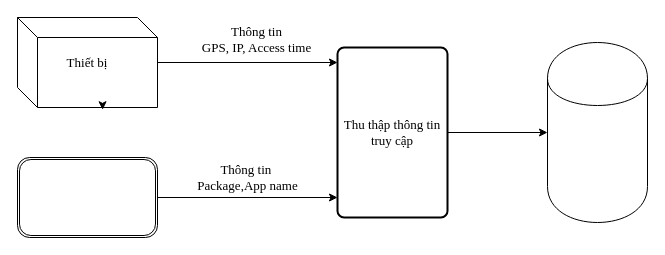
Some shapes in this 665 by 255 pixel diagram are drawn without their labels. The centre of each missing label's shape, as x and y in pixels:
CSDL Lịch sử truy cập: pixel 597 132
Ứng dụng: pixel 87 197
